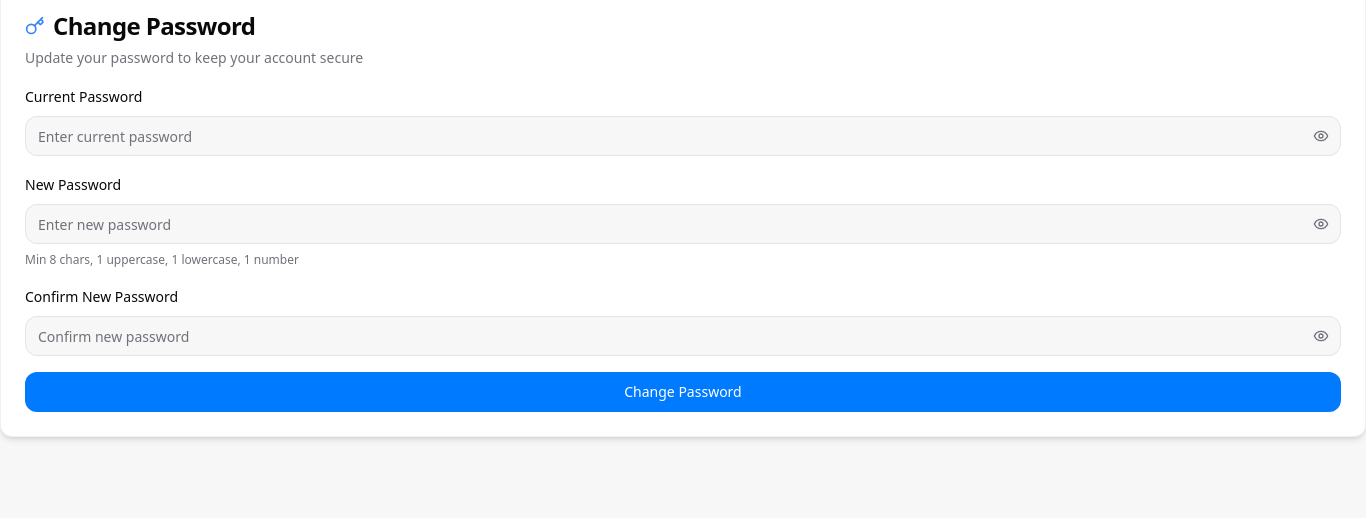
Test: PasswordSettings › shows error if password missing uppercase
The width and height of the screenshot is (1366, 518).
Step 1. Type "lowercase123!" into the password field labelled "New Password" → (683, 224), box [25,204,1341,244]
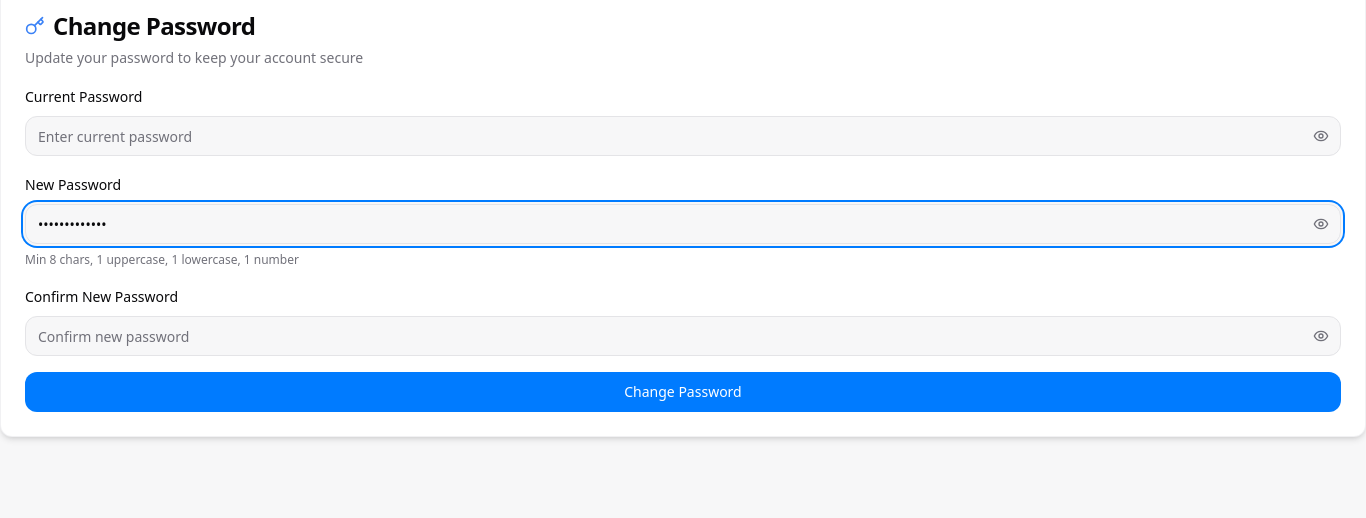
Step 2. Type "lowercase123!" into the password field labelled "Confirm New Password" → (683, 336), box [25,316,1341,356]
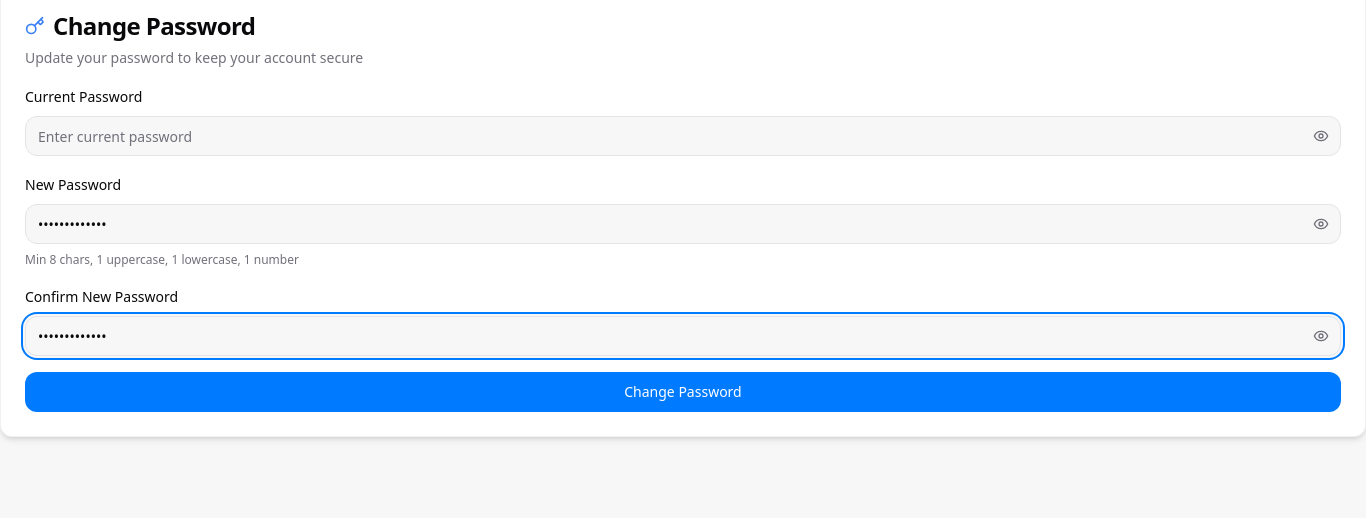
Step 3. Click the button "Change Password" → (683, 392), box [25,372,1341,412]
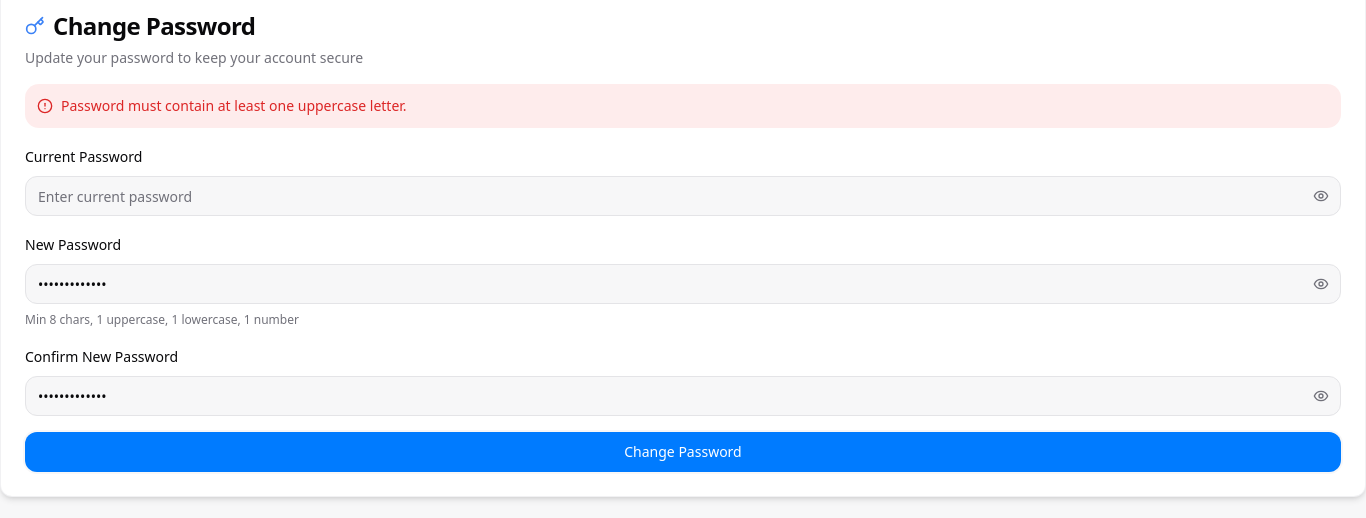
Expected: the text "Password must contain at least one uppercase letter." is shown, [61,96,407,116]
